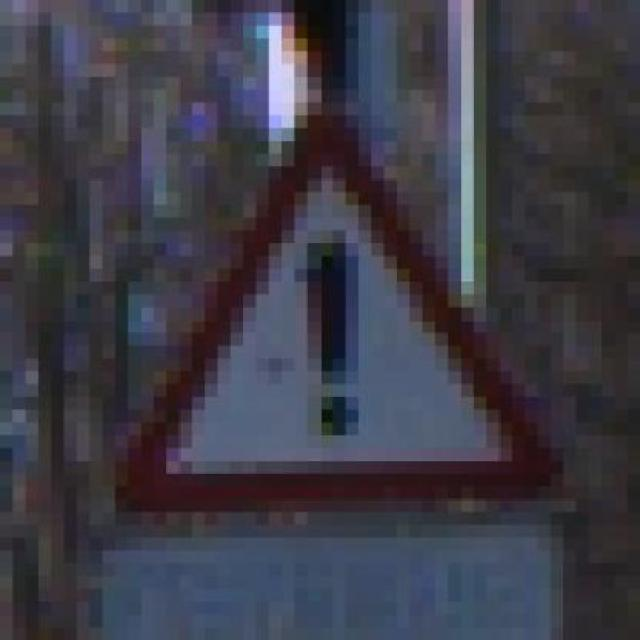Attention Please-: (64, 102, 588, 526)
